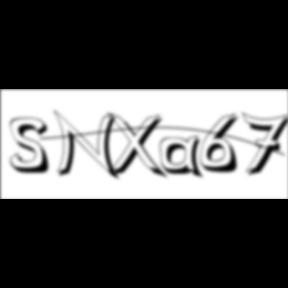6: (200, 112, 246, 176)
N: (54, 109, 124, 183)
S: (10, 117, 56, 176)
X: (106, 112, 170, 182)
a: (160, 135, 208, 182)
